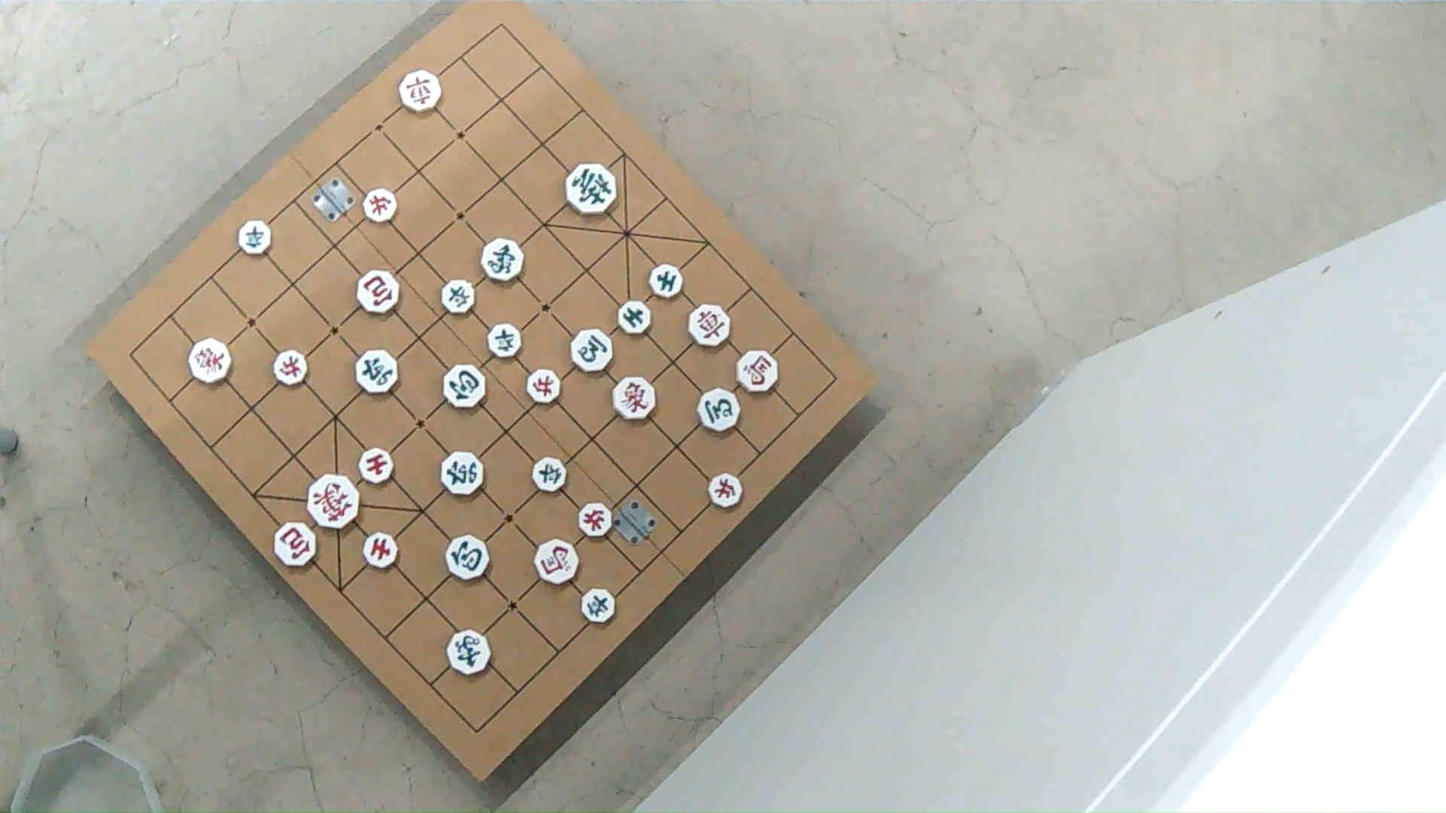cha_green: (443, 450, 486, 495), (355, 349, 398, 392)
cha_red: (685, 302, 728, 344), (398, 69, 441, 111)
jol_green: (583, 589, 618, 624), (534, 455, 568, 491), (486, 325, 520, 359), (444, 279, 479, 312), (237, 221, 270, 254)
jol_red: (276, 349, 310, 385), (710, 473, 744, 508), (580, 503, 615, 537), (365, 190, 398, 224), (529, 370, 561, 405)
ma_green: (569, 330, 612, 373), (699, 389, 741, 431)
ma_red: (534, 539, 578, 584), (735, 352, 777, 394)
po_green: (447, 534, 490, 579), (444, 366, 487, 410)
po_red: (276, 523, 319, 568), (358, 269, 401, 313)
sa_green: (648, 263, 682, 297), (618, 300, 651, 334)
sa_red: (359, 532, 396, 568), (357, 448, 393, 483)
sang_green: (447, 630, 490, 674), (480, 239, 523, 283)
sang_red: (613, 376, 658, 419), (188, 337, 230, 383)
wang_green: (564, 163, 615, 214)
wang_red: (305, 473, 357, 527)
